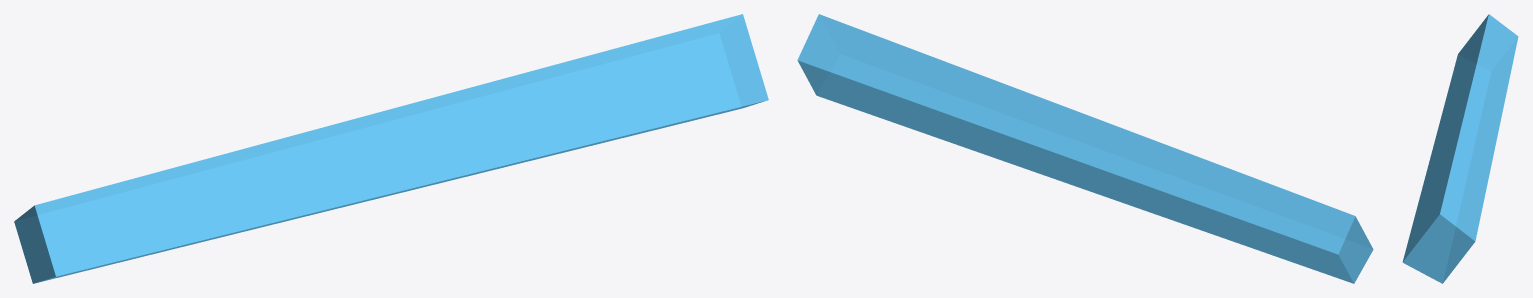
File: Event_420094457_HErechit_51.fbx
3 views of the same model, side by side, from view 1: azimuth 30°, elevation 25°; view 2: azimuth 150°, elevation 25°; view 3: azimuth 270°, elevation 25° (orthographic). The views are drawn at different scales.
Parts seen in each view (by area): view 1: Model; view 2: Model; view 3: Model.
Boxes of the visible parts, bbox=[...] form: Model: bbox=[14, 14, 768, 283]; Model: bbox=[797, 14, 1373, 283]; Model: bbox=[1402, 14, 1518, 283].
Bounding box in the file's own units: 2.1 × 0.3916 × 0.4338.
